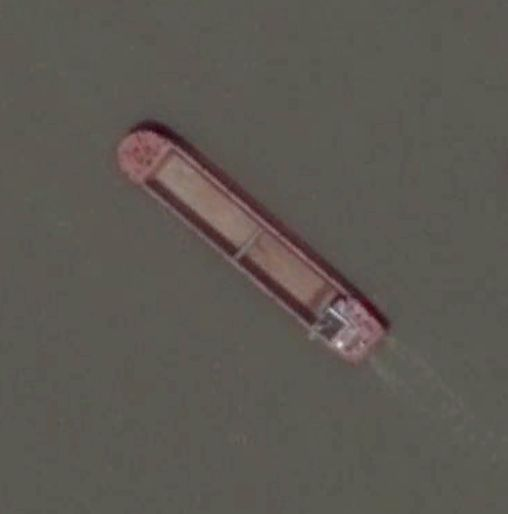boat: (113, 124, 387, 364)
